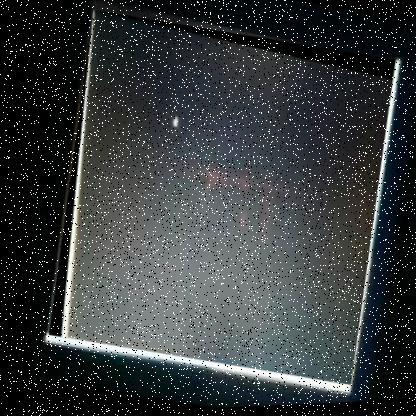fade: (24, 0, 413, 399)
